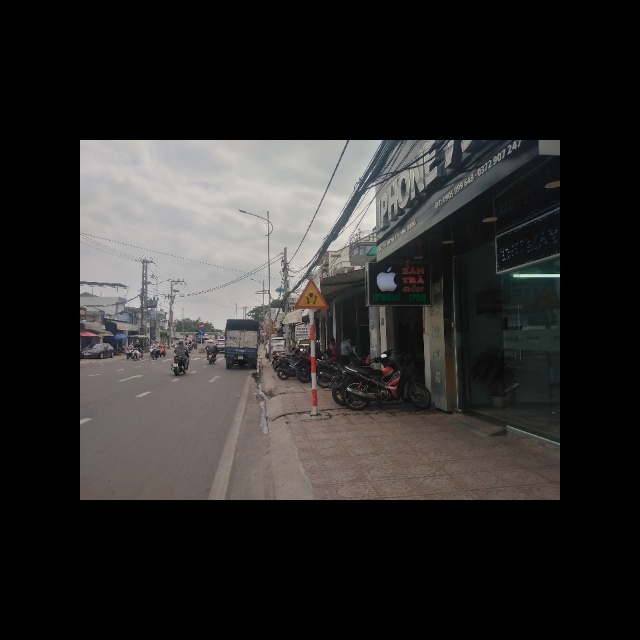Đường đôi: (293, 276, 330, 310)
